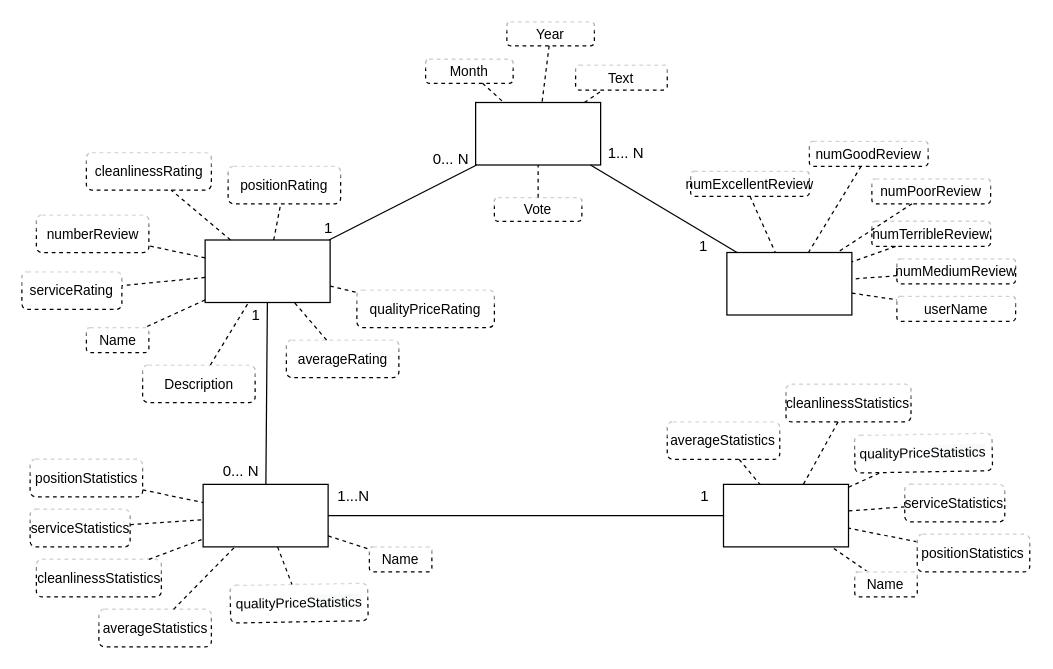
Some shapes in this 1053 by 669 pixel diagram are drawn without their labels. The centre of each missing label's shape, as x and y in pixels:
"City" belongs at (x=265, y=515).
"Hotel" belongs at (x=267, y=270).
"Nation" belongs at (x=785, y=515).
"Review" belongs at (x=537, y=133).
"Reviewer" belongs at (x=789, y=283).
